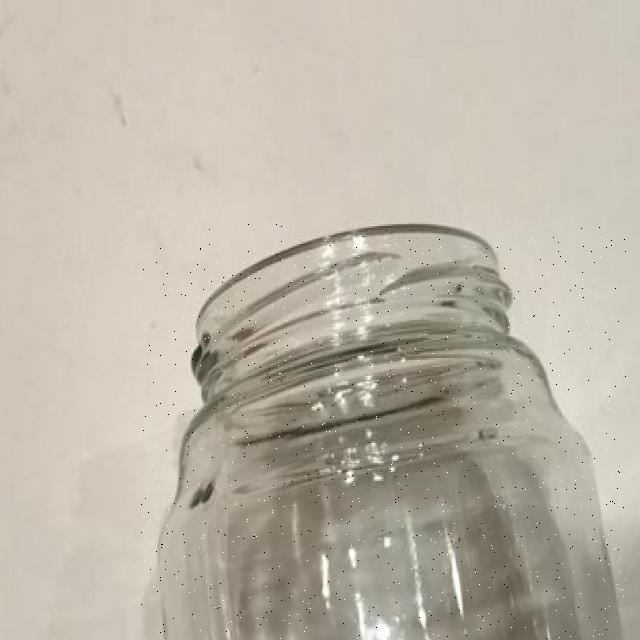glass: (142, 224, 626, 640)
